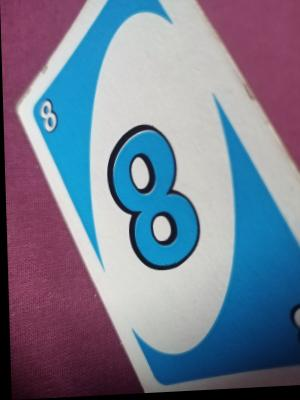blue: (39, 60, 290, 339)
num_8: (35, 99, 73, 136)
